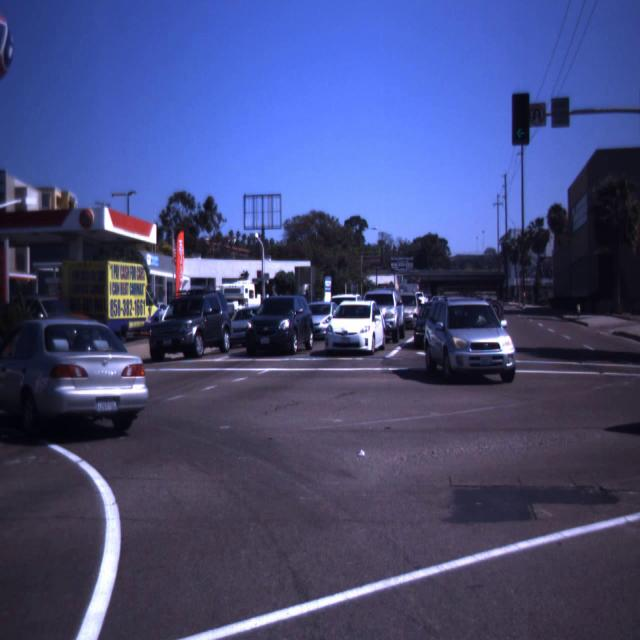go left: (510, 96, 530, 143)
go left traffic light: (510, 96, 530, 143)
